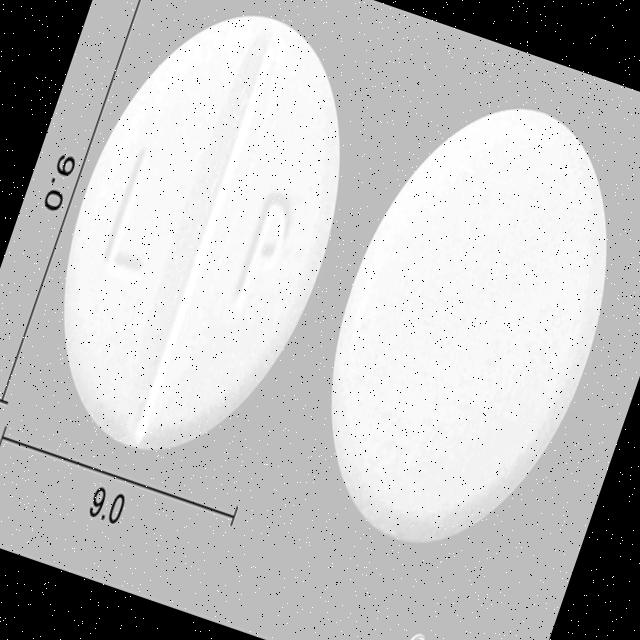Ciptec: (11, 0, 393, 487), (278, 68, 640, 576)
